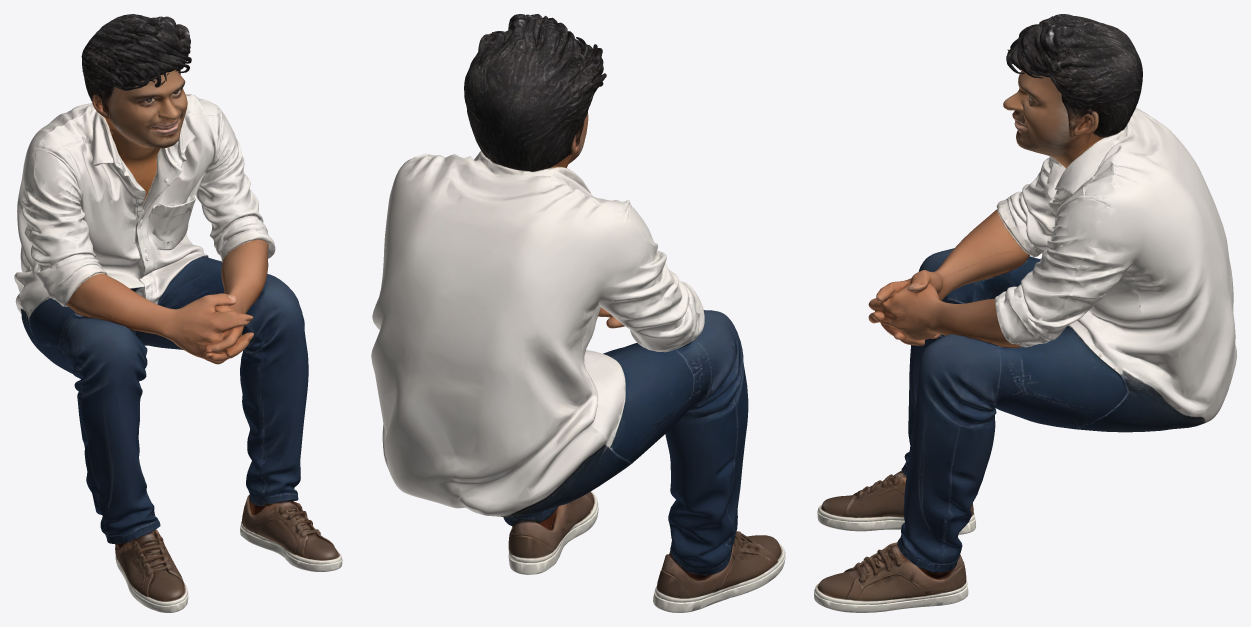
Rendered from figure.glb.
3 renders of one model, left to right at view 1: azimuth 30°, elevation 25°; view 2: azimuth 150°, elevation 25°; view 3: azimuth 270°, elevation 25°, orthographic. The views are drawn at different scales.
Visible parts, largest first — view 1: model; view 2: model; view 3: model.
Part boxes in pixels (<box>): model: <box>14,14,342,612</box>; model: <box>371,14,785,612</box>; model: <box>814,14,1236,612</box>.
Size of the model in its own units: 0.9022 by 1.9 by 1.33.
Materials: 1 (1 with a texture image).
